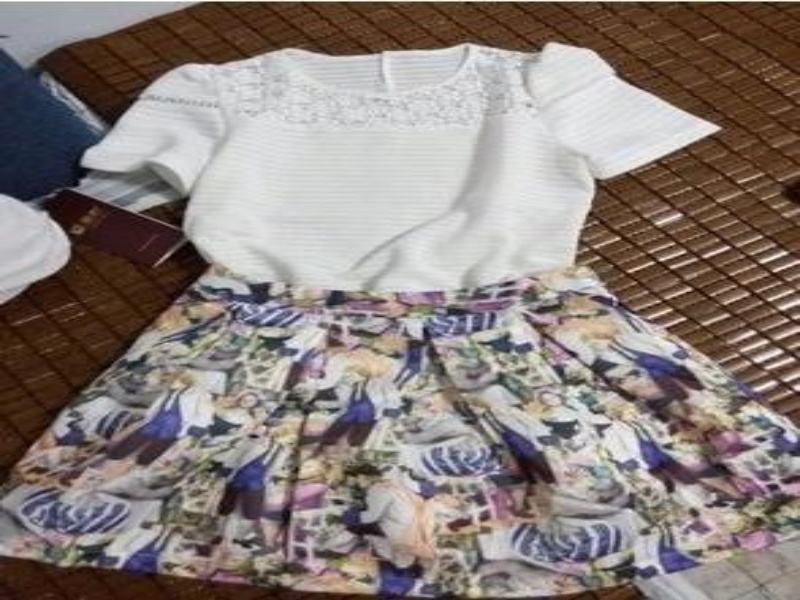short_sleeved_shirt: (76, 42, 729, 301)
skirt: (0, 269, 797, 599)
